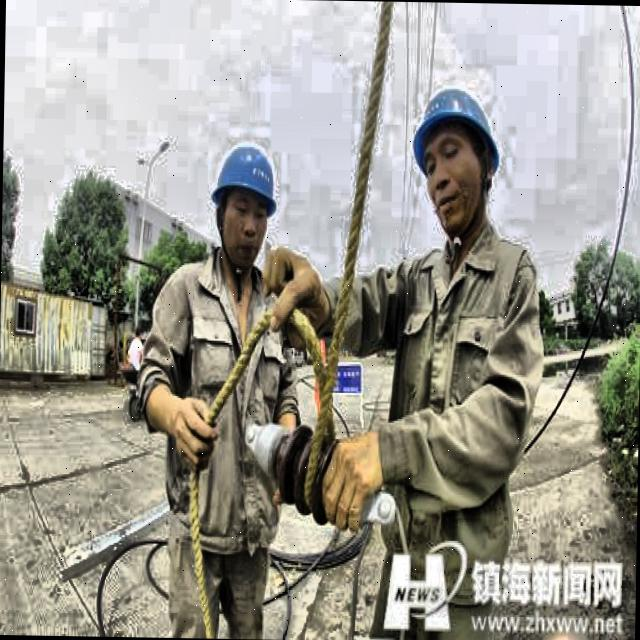helmet: (404, 63, 506, 240), (204, 132, 284, 270)
